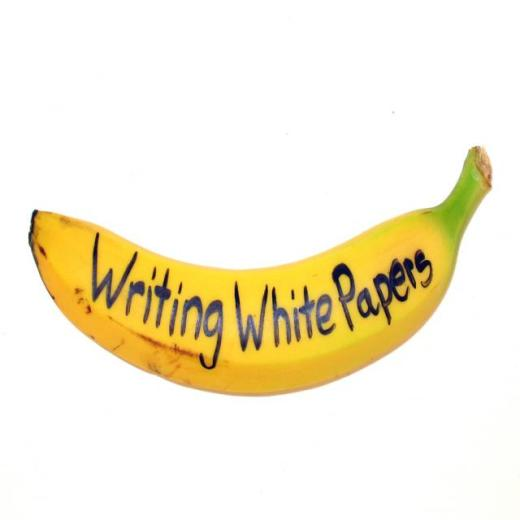Banana: (27, 144, 494, 401)
